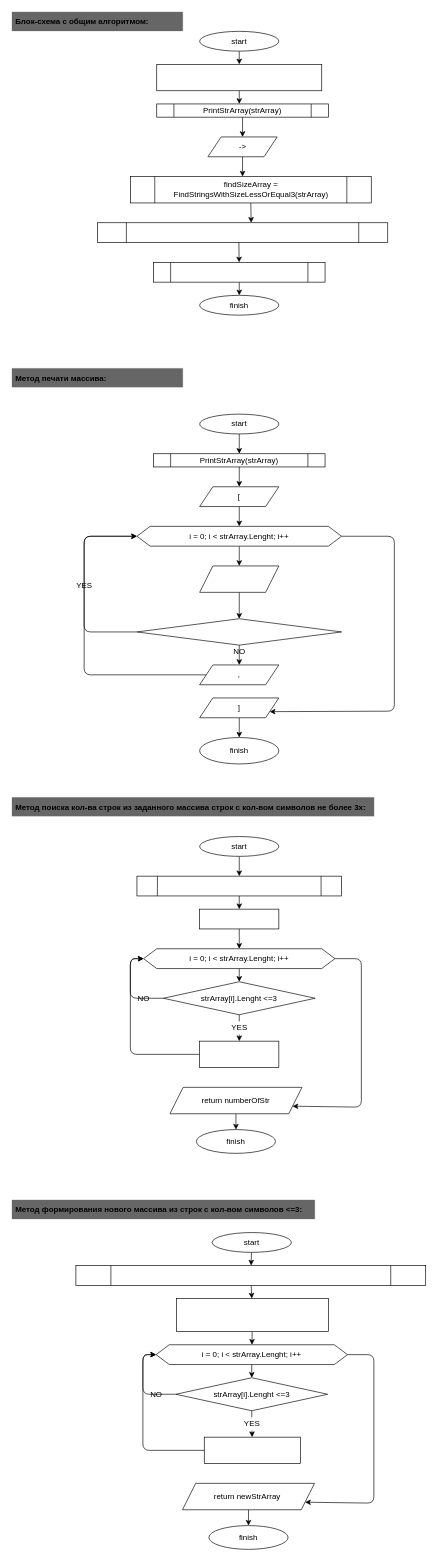
The diagram is 438 pixels wide and 1561 high, and some of its shapes have lost their labels. Each missing label, with the box of its shape:
"strArray[i]": (199, 565, 279, 592)
CreateNewArrayWithSizeLessOrEqual3 (strArray, findSizeArray): (75, 1265, 426, 1285)
FindStringsWithSizeLessOrEqual3(strArray): (136, 875, 342, 896)
i != strArray.Lenght - 1: (136, 618, 342, 645)
newStrArray = CreateNewArrayWithSizeLessOrEqual3(strArray,findSizeArray): (97, 222, 388, 243)
newStrArray[j] = strArray[i] j++: (204, 1436, 301, 1464)
numberOfStr ++: (199, 1040, 279, 1068)
numberOfStr = 0: (199, 908, 279, 929)
PrintStrArray(newStrArray): (153, 262, 325, 282)
strArray = ["hello", "2", "world", ":-)"]: (156, 64, 322, 91)
string [] newStrArray = new string [findSizeArray] j = 0: (176, 1298, 328, 1332)
